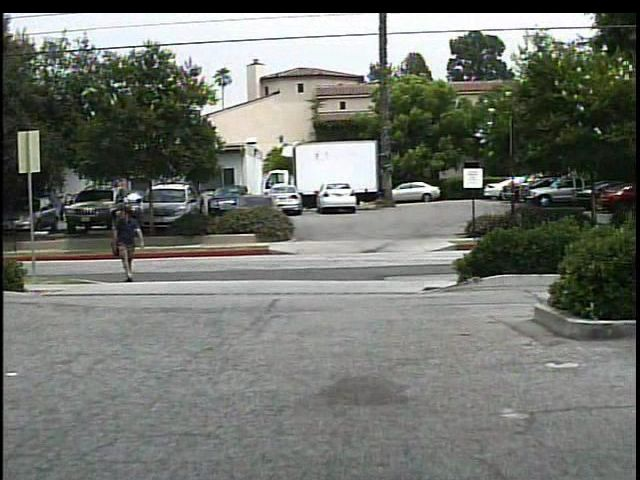person: (111, 204, 146, 284)
